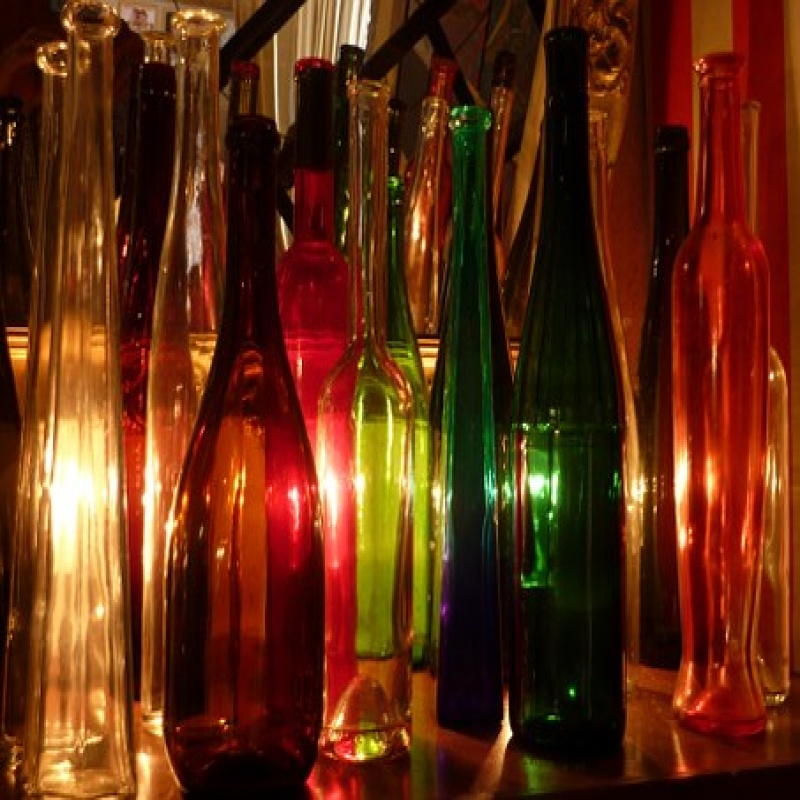wine: (167, 109, 321, 799), (510, 32, 627, 746), (665, 48, 764, 741)
